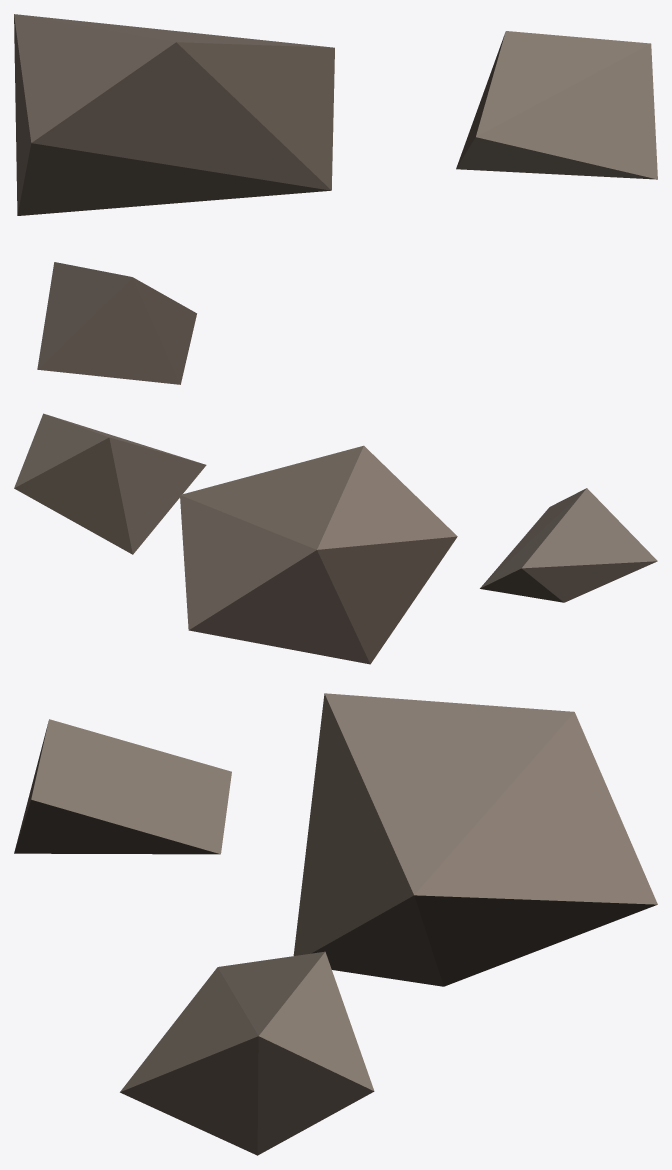
File: tl_env_stone_small_d_v01.glb
3 views of the same model, one above another, from view 1: azimuth 30°, elevation 25°; view 2: azimuth 150°, elevation 25°; view 3: azimuth 270°, elevation 25° (orthographic). The views are drawn at different scales.
Visible parts, largest first — view 1: tl_env_stone_small_d_v01; view 2: tl_env_stone_small_d_v01; view 3: tl_env_stone_small_d_v01.
Part boxes in pixels (<box>): tl_env_stone_small_d_v01: <box>14,14,657,384</box>; tl_env_stone_small_d_v01: <box>14,413,657,664</box>; tl_env_stone_small_d_v01: <box>14,693,657,1155</box>.
Bounding box in the file's own units: 0.425 × 0.12 × 0.2997.
